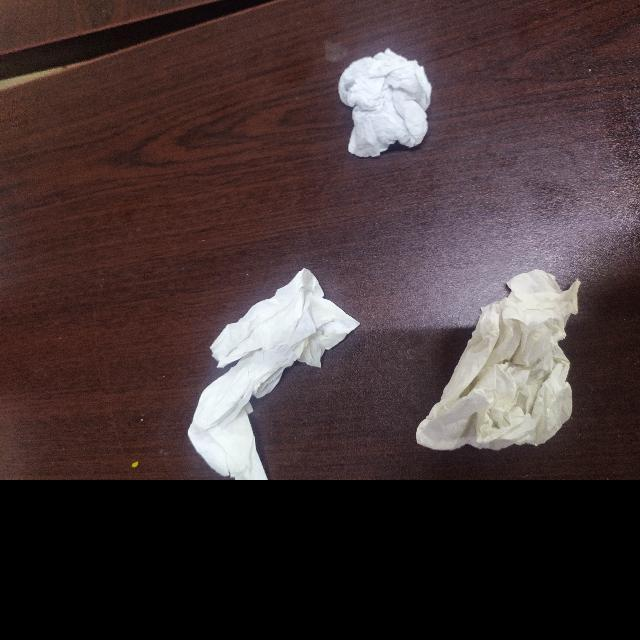kitchen paper: (399, 262, 595, 457), (201, 273, 351, 486), (328, 45, 446, 170)
